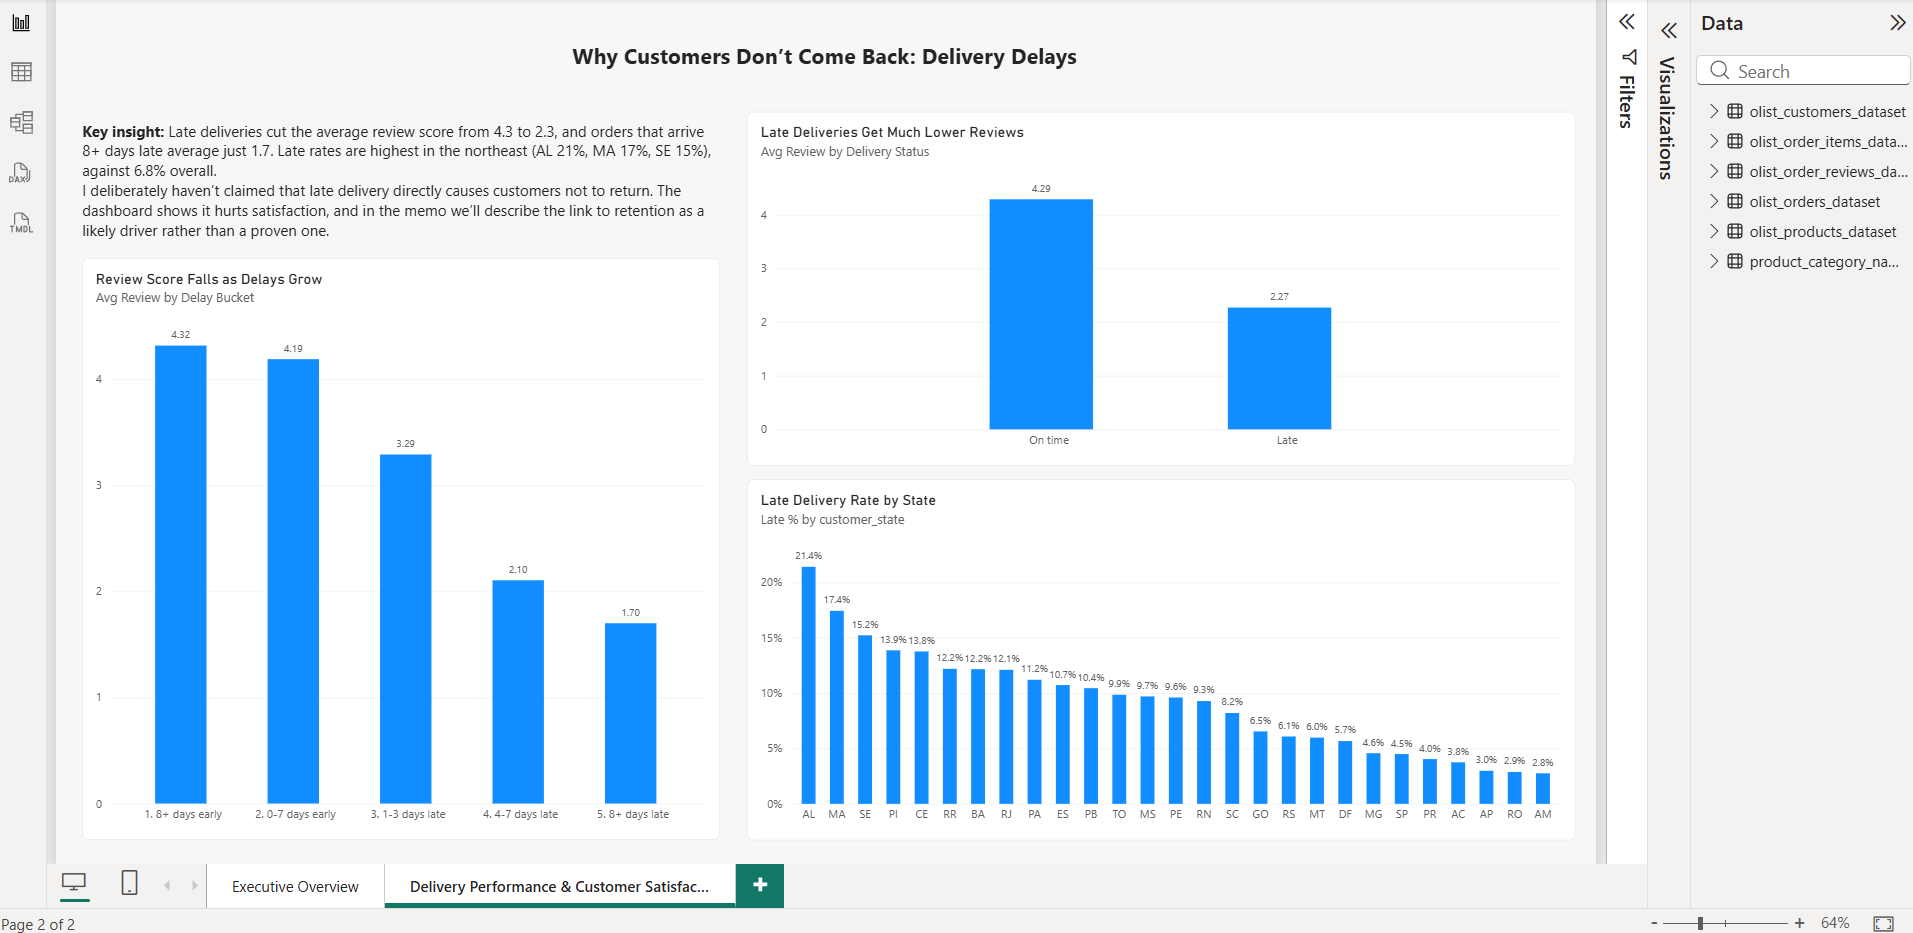

What the dashboard file says about the page in this screenshot:
{"tool":"powerbi","page":{"name":"Delivery Performance & Customer Satisfaction","canvas":[1920,1080],"ordinal":1},"visuals":[{"type":"clusteredColumnChart","title":"Late Deliveries Get Much Lower Reviews","fields":{"Category":["olist_orders_dataset.Delivery Status"],"Y":["olist_orders_dataset.Avg Review"]},"box":[861.6,141.3,1032.6,441.3],"z":0},{"type":"clusteredColumnChart","title":"Late Delivery Rate by State","fields":{"Category":["olist_customers_dataset.customer_state"],"Y":["olist_orders_dataset.Late %"]},"box":[861.6,600,1032.6,450],"z":1},{"type":"clusteredColumnChart","title":"Review Score Falls as Delays Grow","fields":{"Category":["olist_orders_dataset.Delay Bucket"],"Y":["olist_orders_dataset.Avg Review"]},"box":[33.1,324.4,795.4,725.6],"z":2},{"type":"textbox","box":[643.6,52.3,638.4,57.6],"z":3},{"type":"textbox","box":[33.1,153.5,795.4,170.9],"z":4}]}

Visuals, with their boxes on the page's 1920x1080 design canvas (x1, y1, x2, y2). These are canvas units, not pixel positions in the 1913x933 screenshot, which may show the page scaled, cropped or inside an application window:
"Late Deliveries Get Much Lower Reviews" clusteredColumnChart: BBox(862, 141, 1894, 583)
"Late Delivery Rate by State" clusteredColumnChart: BBox(862, 600, 1894, 1050)
"Review Score Falls as Delays Grow" clusteredColumnChart: BBox(33, 324, 828, 1050)
textbox: BBox(644, 52, 1282, 110)
textbox: BBox(33, 154, 828, 324)
